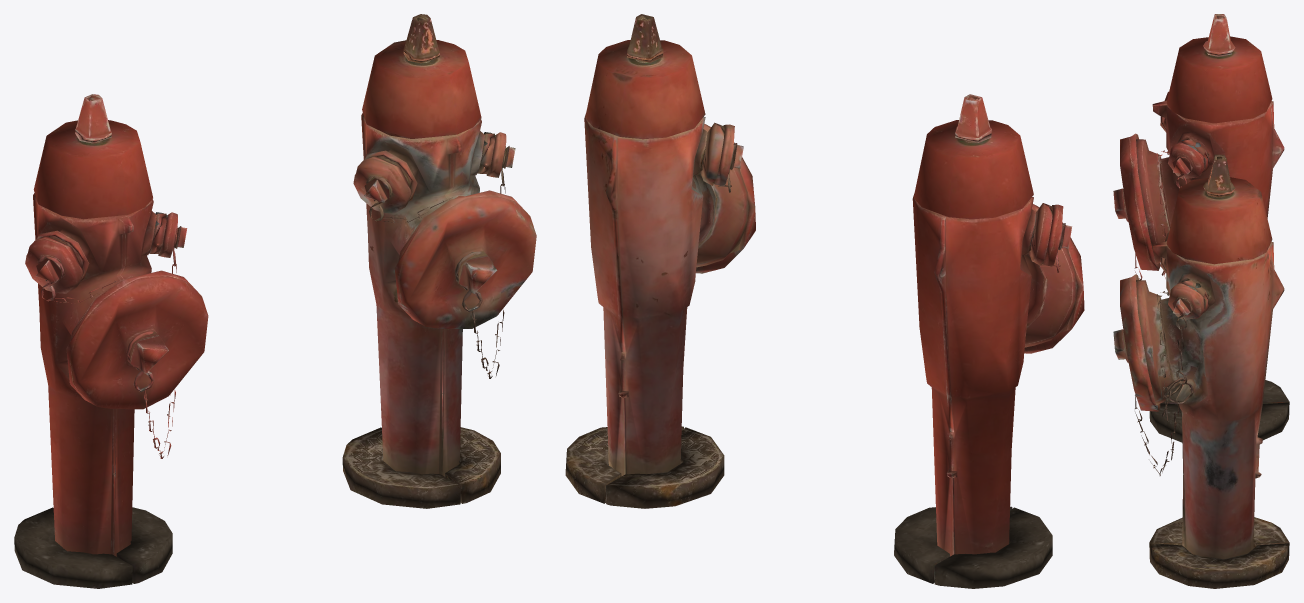
Rendered from fire_hydrant.lite.glb.
3 renders of one model, left to right at view 1: azimuth 30°, elevation 25°; view 2: azimuth 150°, elevation 25°; view 3: azimuth 270°, elevation 25°, orthographic. The views are drawn at different scales.
Parts seen in each view (by area): view 1: fire_hydrant_aged, fire_hydrant; view 2: fire_hydrant_aged, fire_hydrant; view 3: fire_hydrant_aged, fire_hydrant.
Boxes of the visible parts, x1=… form: fire_hydrant_aged: x1=342, y1=14, x2=536, y2=508; fire_hydrant: x1=14, y1=94, x2=208, y2=588; fire_hydrant_aged: x1=565, y1=14, x2=755, y2=508; fire_hydrant: x1=894, y1=94, x2=1084, y2=588; fire_hydrant_aged: x1=1113, y1=154, x2=1289, y2=588; fire_hydrant: x1=1113, y1=14, x2=1289, y2=442.
Size of the model in its own units: 0.8728 by 0.7992 by 0.3173.
2 materials, 2 textured.
